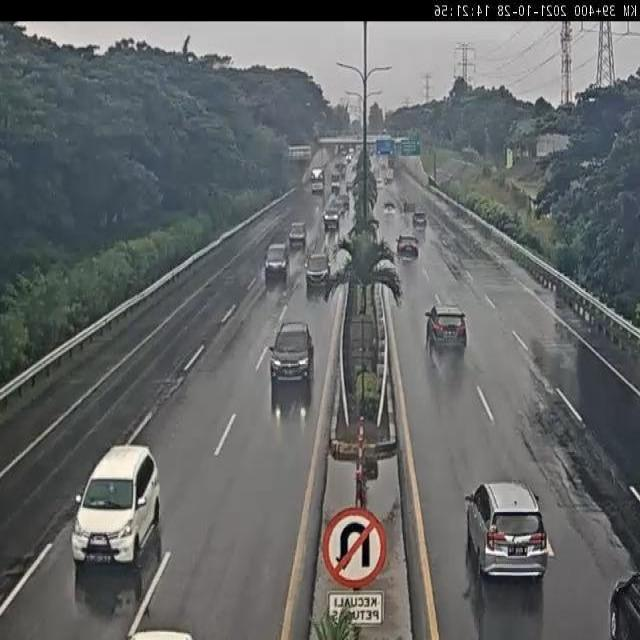Bus: (309, 168, 326, 194)
Car: (68, 442, 161, 568), (466, 483, 547, 579), (268, 322, 314, 388), (426, 304, 466, 358), (609, 574, 640, 636), (265, 242, 288, 282), (305, 252, 329, 283), (397, 235, 419, 260), (289, 223, 307, 248), (322, 207, 340, 229), (337, 192, 351, 212), (413, 211, 427, 229), (332, 198, 346, 216), (384, 203, 396, 216)
Truck: (385, 167, 395, 182)
